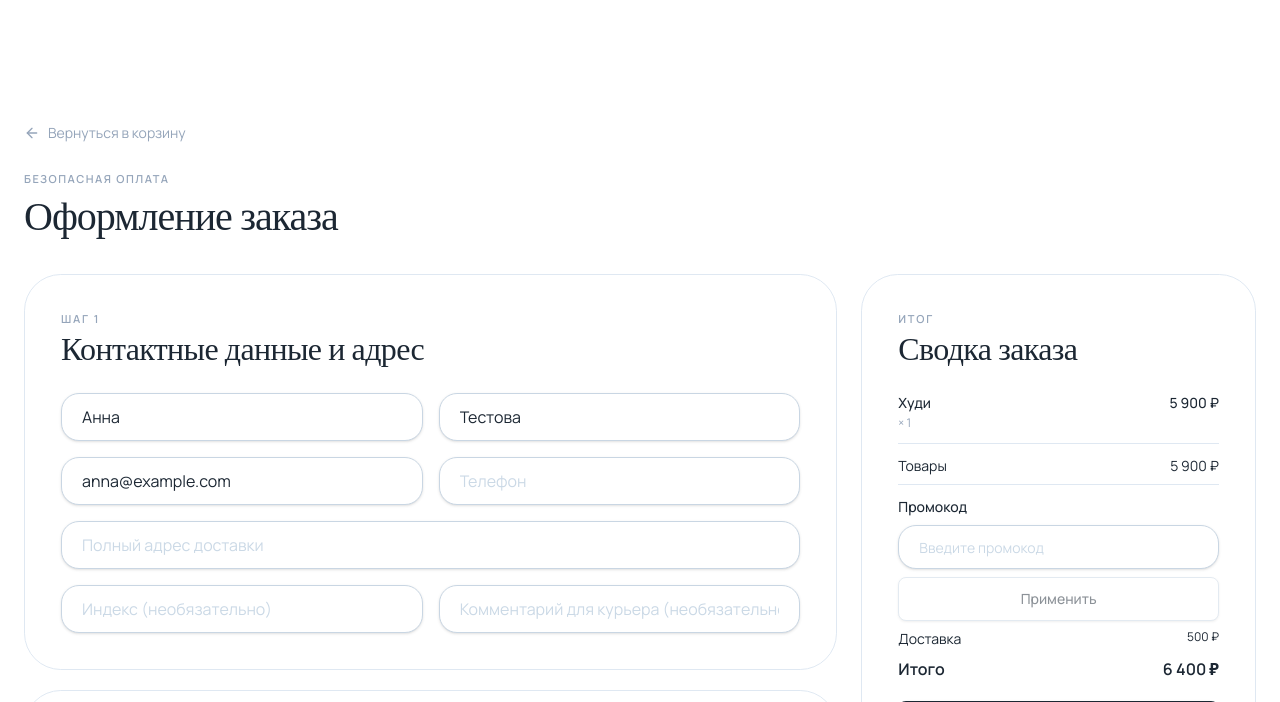
Test case: Checkout (CHECKOUT.E2E.1) › shows the order number on the confirmation and no false e-mail promise
Type "+79990001122" into the field with placeholder "Телефон" at (620, 481), box [439,457,800,505]
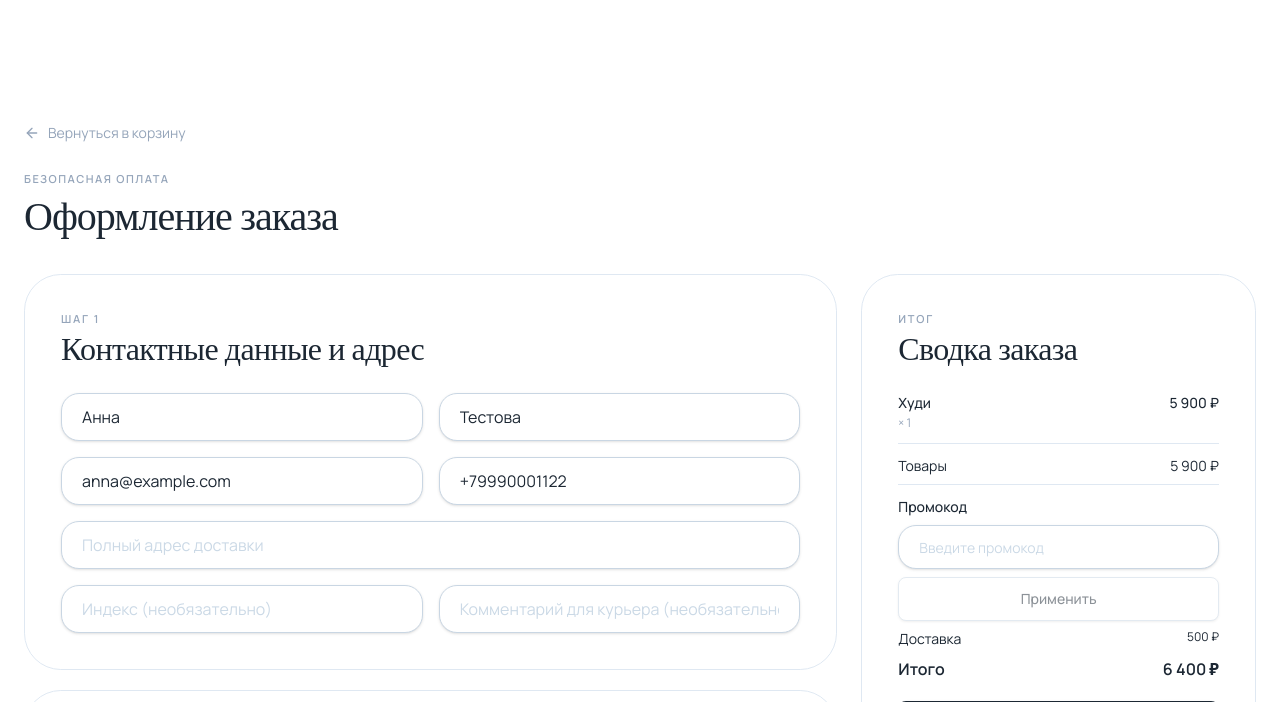
Type "Москва, Тверская 1" into the field with placeholder "Полный адрес доставки" at (431, 545), box [61,521,800,569]
(page scrolled)
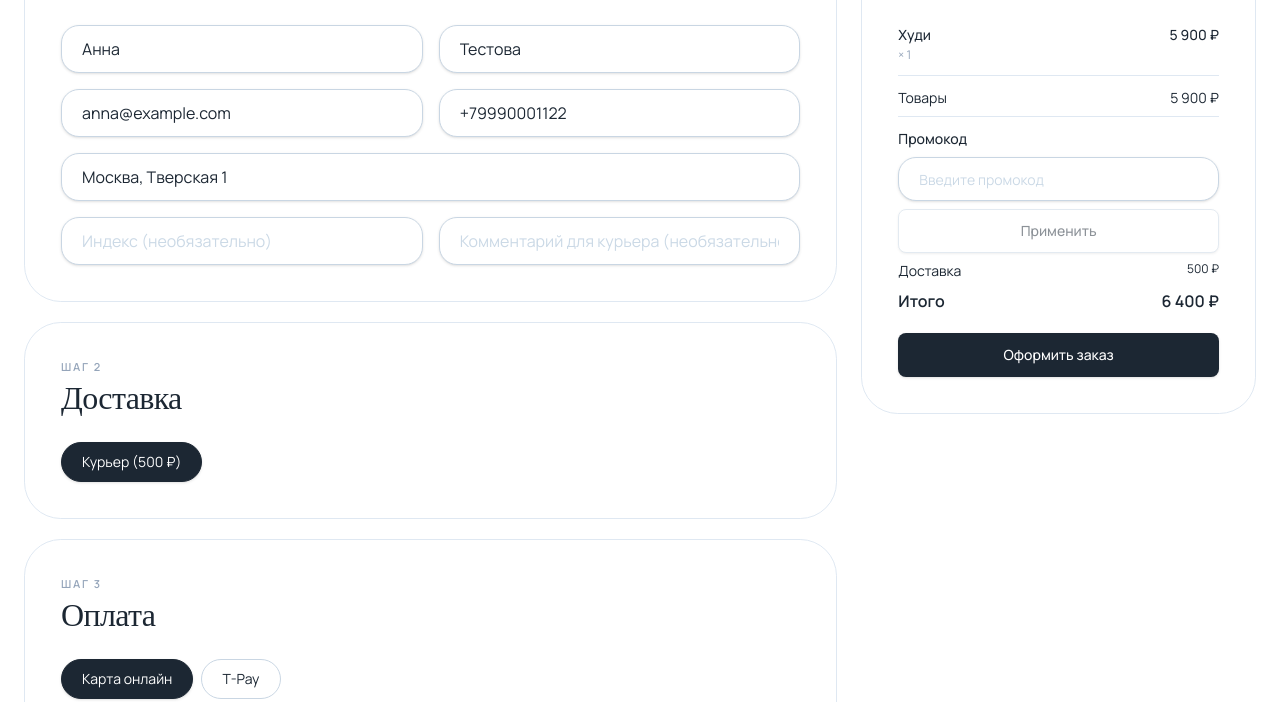
Check: the button "Курьер (500 ₽)" is shown, box [61,442,202,482]
Click the button "Оформить заказ" at (1059, 355), box [898,333,1219,377]
(page scrolled)
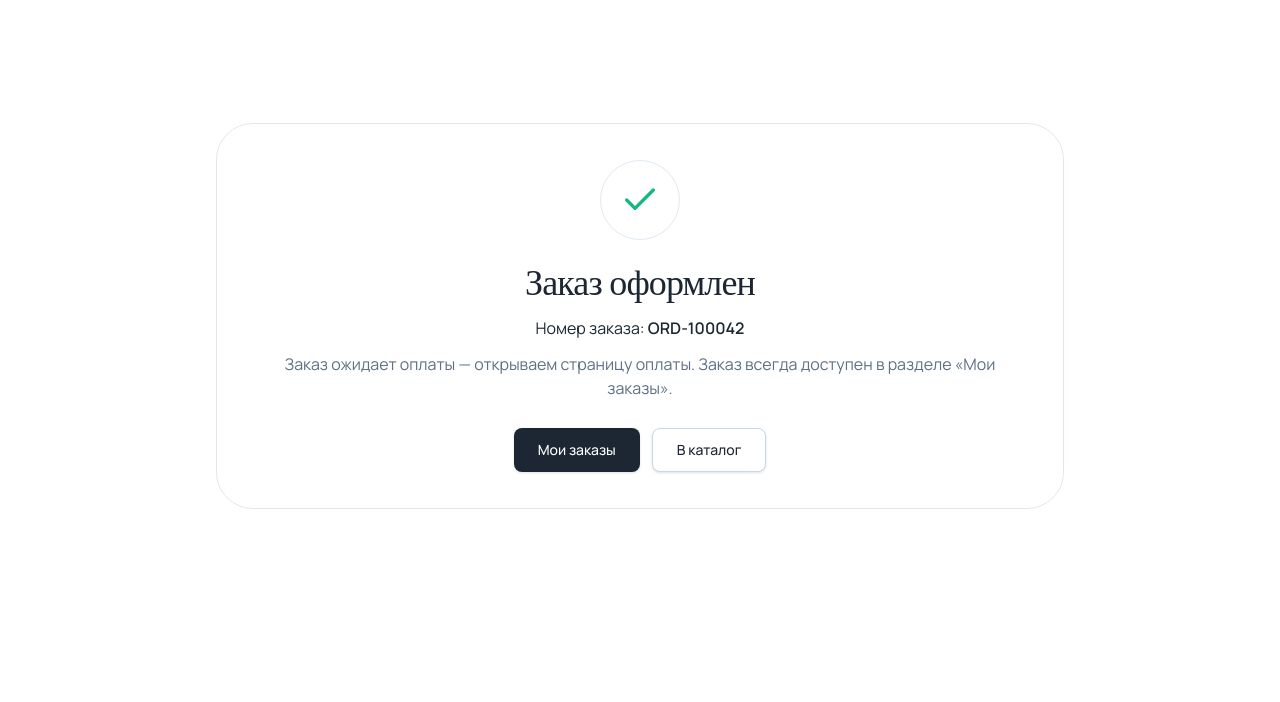
Check: the element with test id "checkout-order-number" shows "ORD-100042", box [648,317,744,339]
